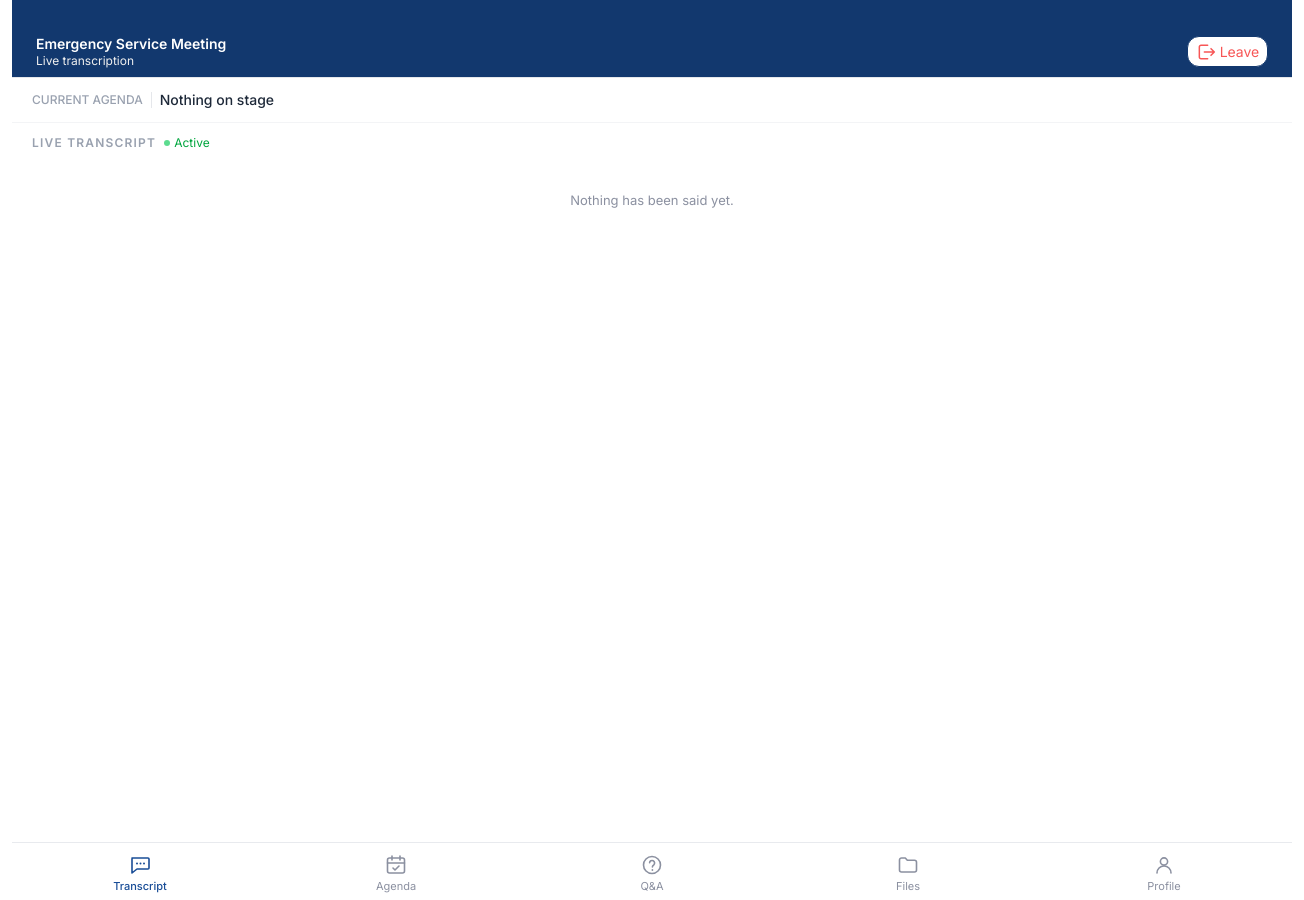
Test case: the transcript › marks nothing where the event has ended
Expected: the navigation bar named "Sections" is shown, [12,842,1292,899]
Click the button "Transcript".
click(140, 872)  # box [12,843,268,899]
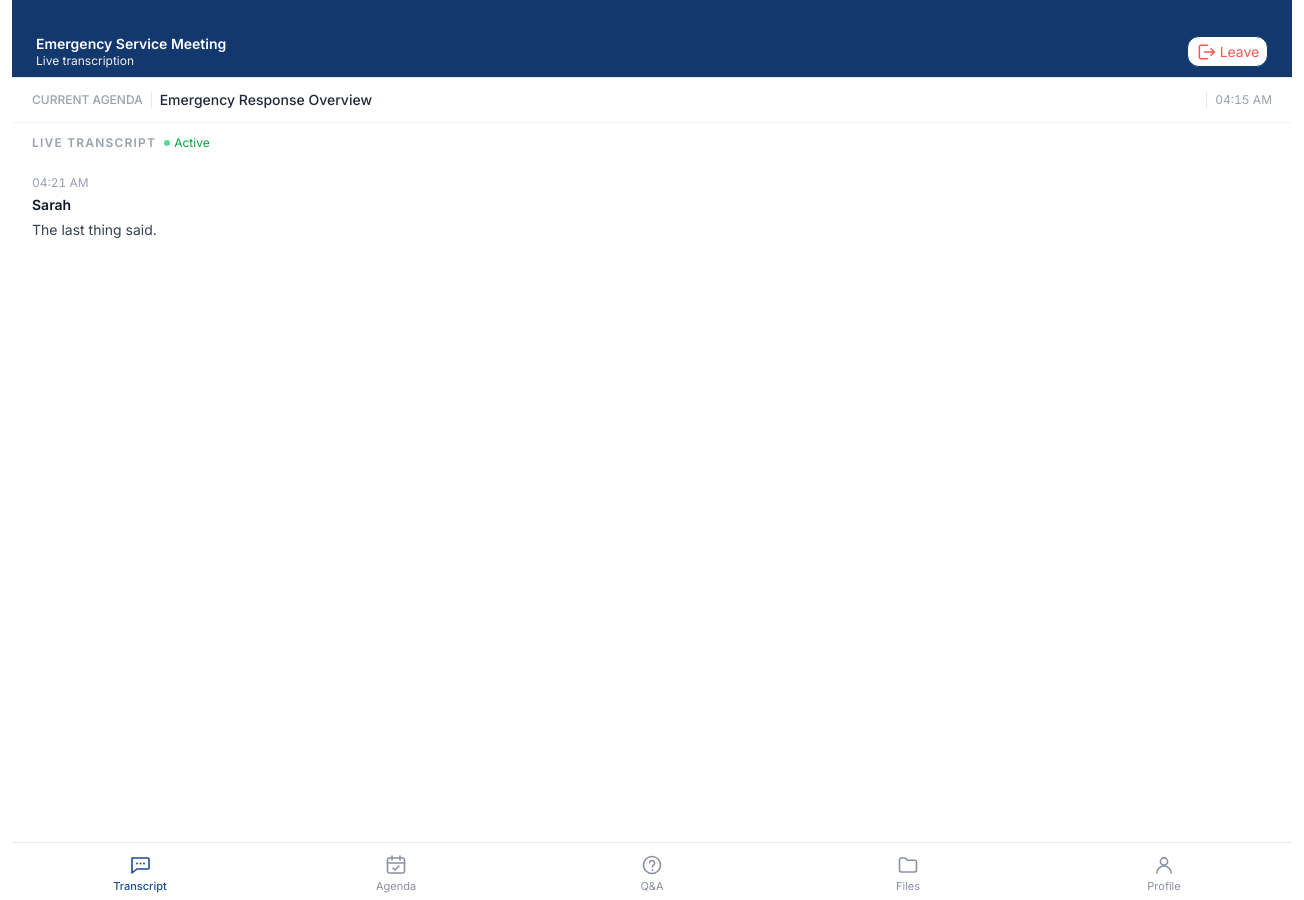
Expected: the text "The last thing said." is shown, [32,220,157,238]
